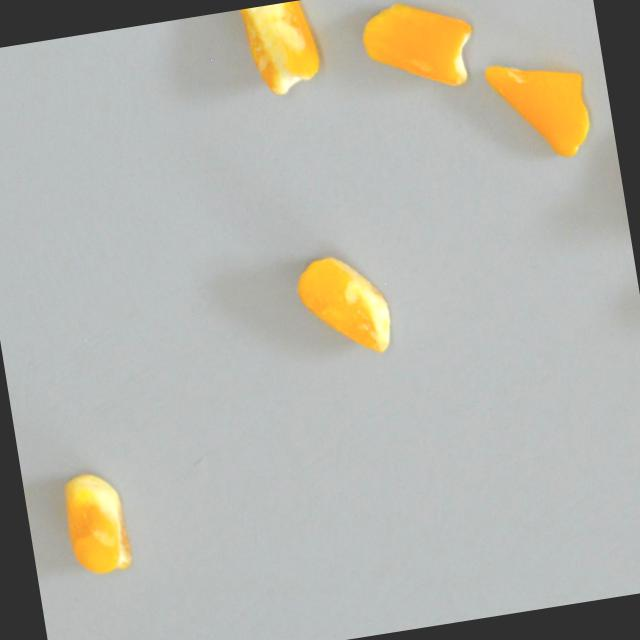estandar: (480, 52, 596, 168), (357, 0, 479, 103)
pelicula: (291, 246, 394, 365), (236, 0, 322, 100), (57, 467, 133, 579)
